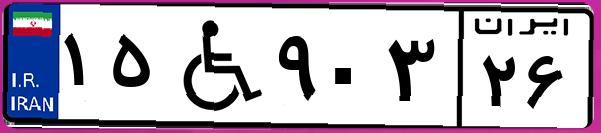0: (330, 28, 385, 110)
1: (57, 26, 110, 100)
2: (475, 38, 525, 113)
3: (385, 28, 445, 110)
5: (110, 28, 158, 98)
6: (525, 38, 570, 115)
9: (270, 28, 330, 110)
ژ (معلولین و جانبازان): (158, 12, 270, 120)
